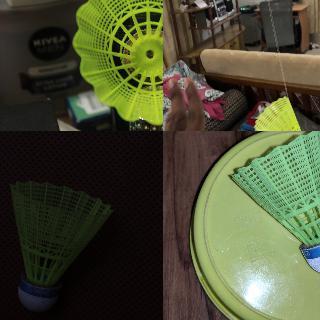shuttlecock: (8, 180, 112, 312), (228, 131, 319, 276), (73, 0, 162, 126), (252, 97, 316, 130)
